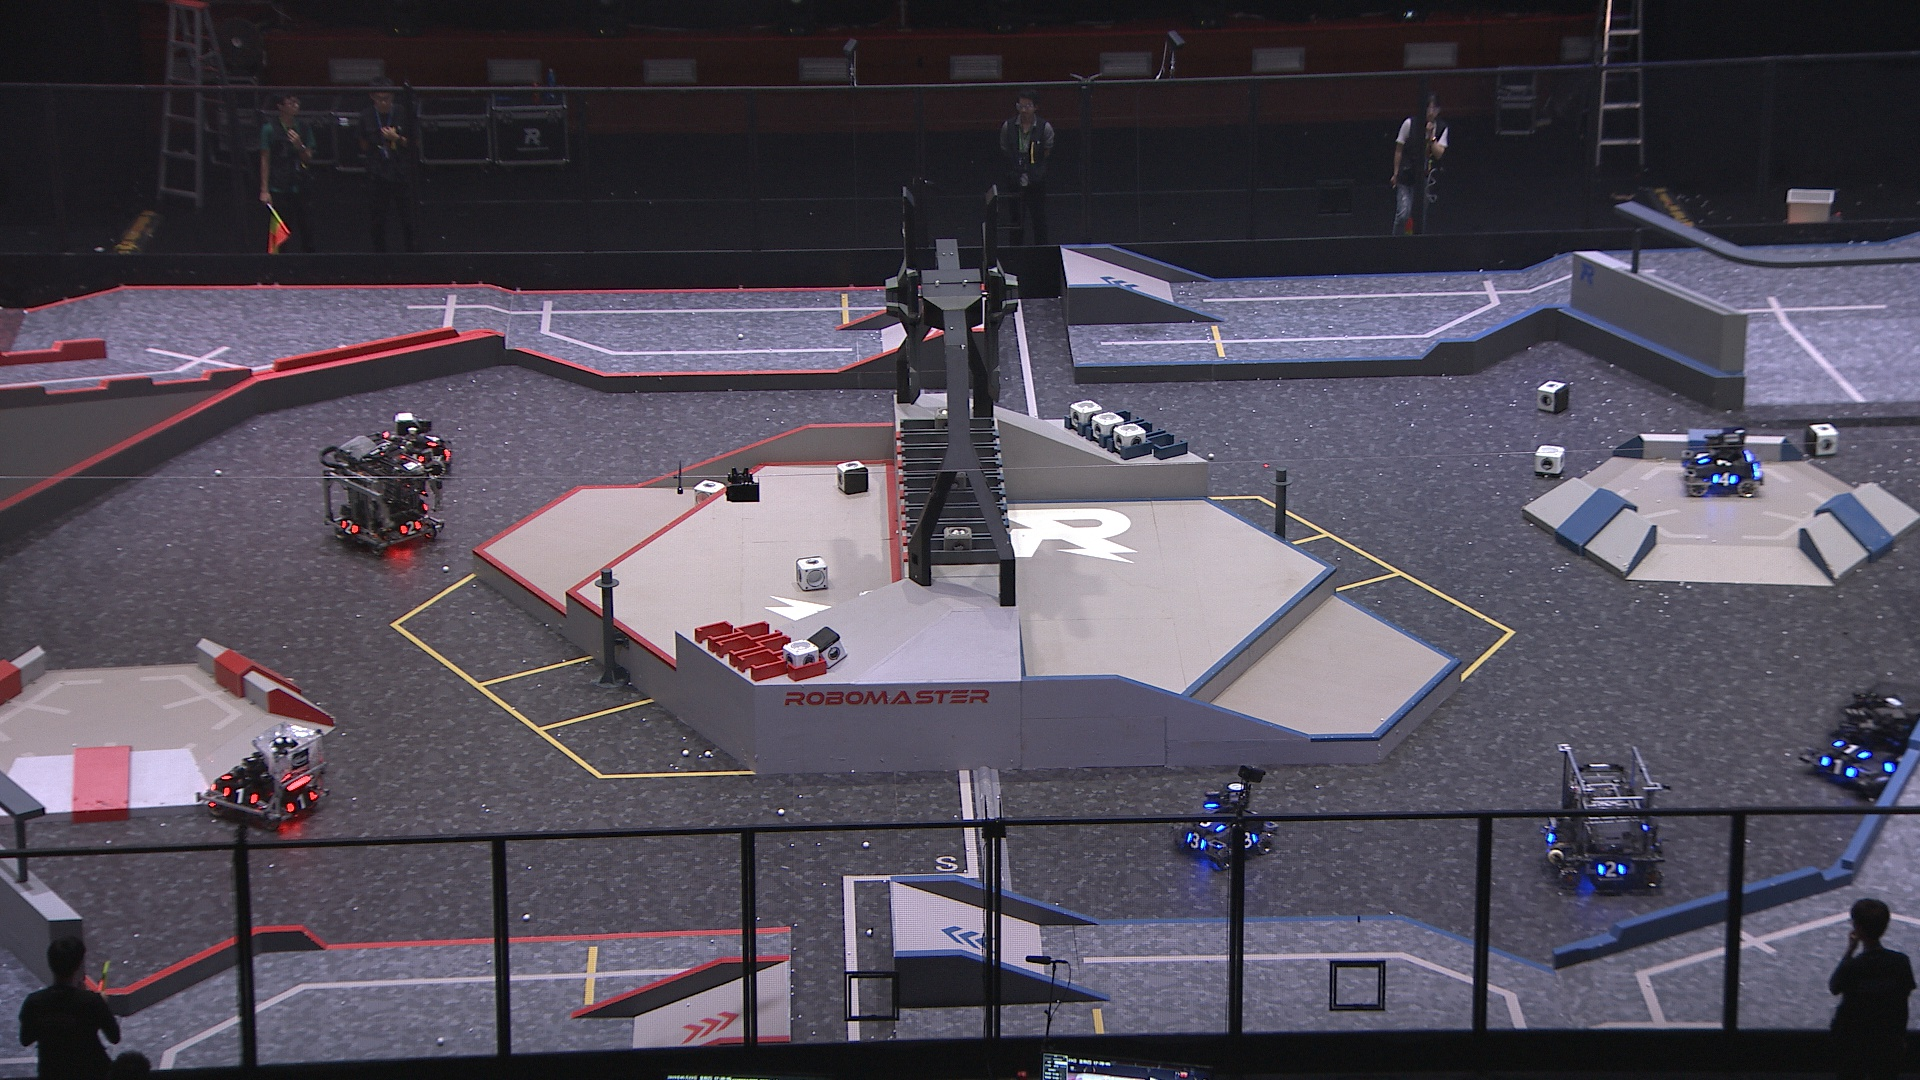armor: (1832, 737, 1873, 760), (1820, 756, 1858, 779), (285, 790, 316, 815), (220, 787, 258, 807), (1594, 858, 1626, 880), (396, 517, 425, 537), (1712, 472, 1741, 491), (1185, 832, 1211, 851), (1192, 820, 1225, 833), (339, 520, 363, 537), (1242, 828, 1259, 851), (425, 433, 442, 448), (1695, 450, 1712, 465)
car: (1539, 745, 1665, 891), (318, 433, 443, 559), (195, 723, 330, 831), (1797, 690, 1920, 796), (1171, 785, 1280, 872), (1676, 425, 1764, 498), (367, 411, 452, 477)
